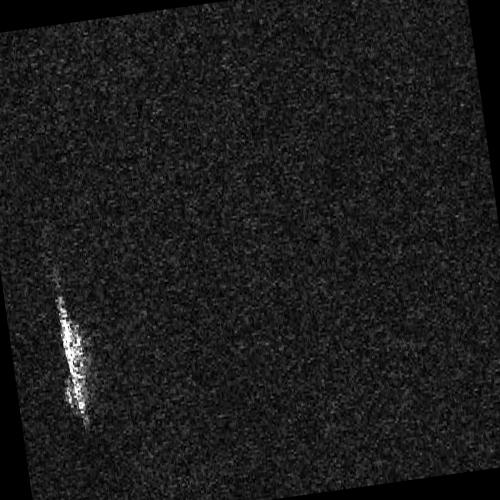ship: (55, 293, 85, 420)
